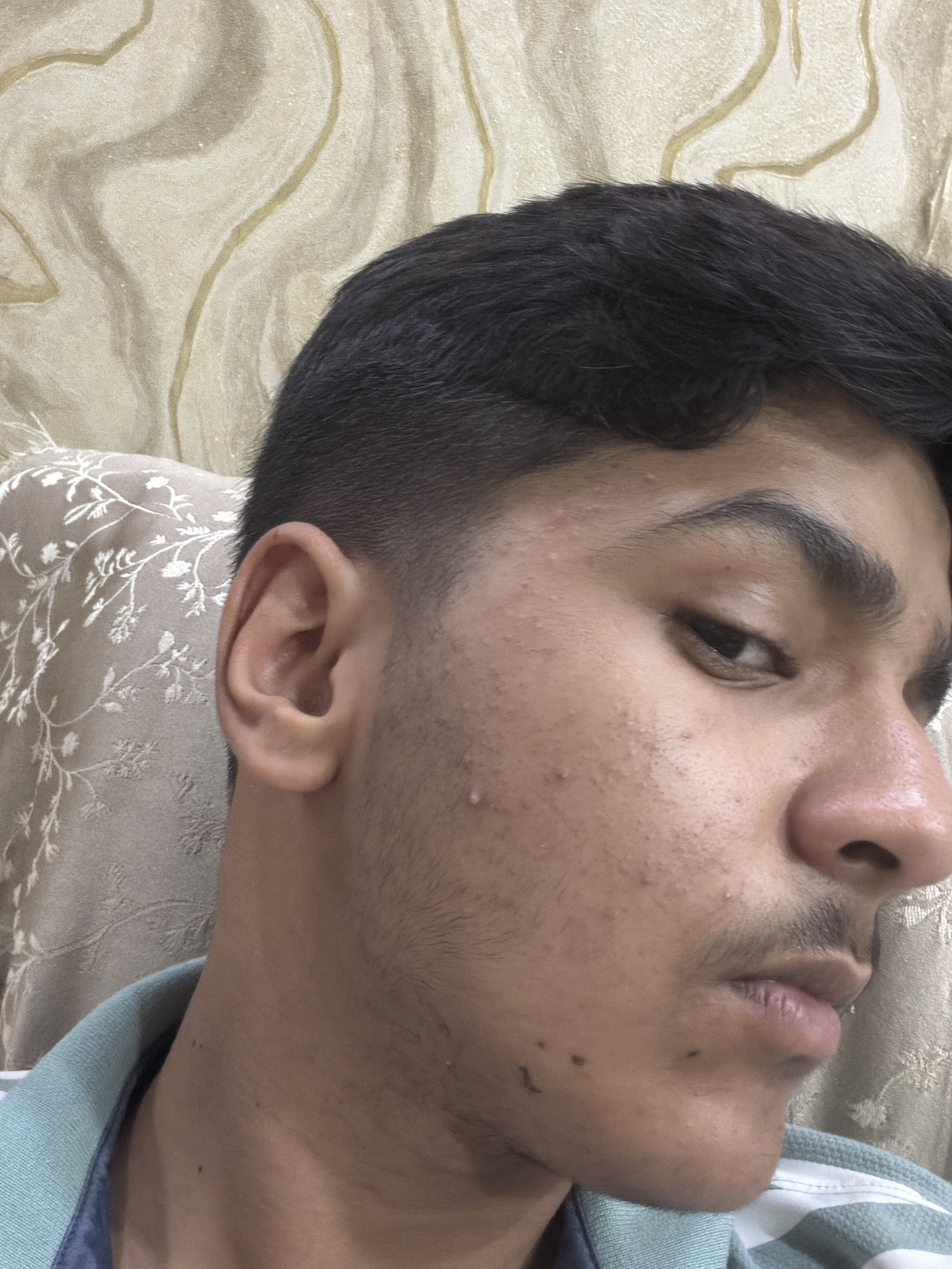closed_comedone: (616, 765, 659, 794), (502, 600, 535, 628), (636, 865, 661, 895), (618, 715, 650, 737)
pustule: (455, 788, 495, 813)
